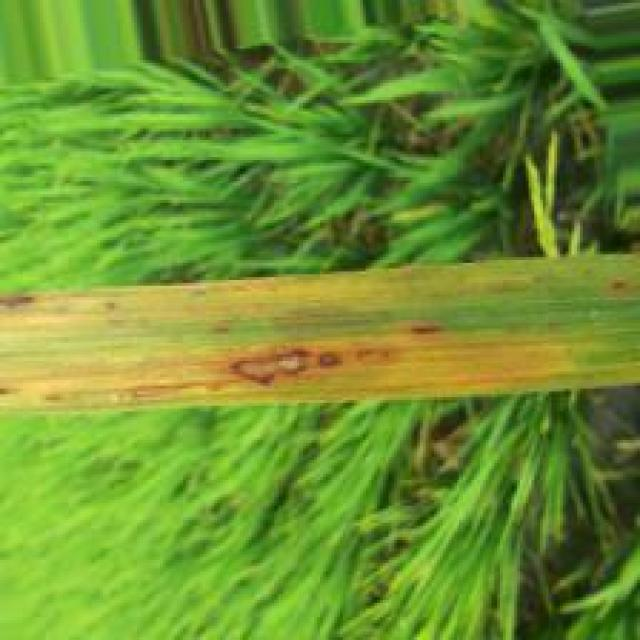Rice Tungro: (0, 318, 575, 410)
